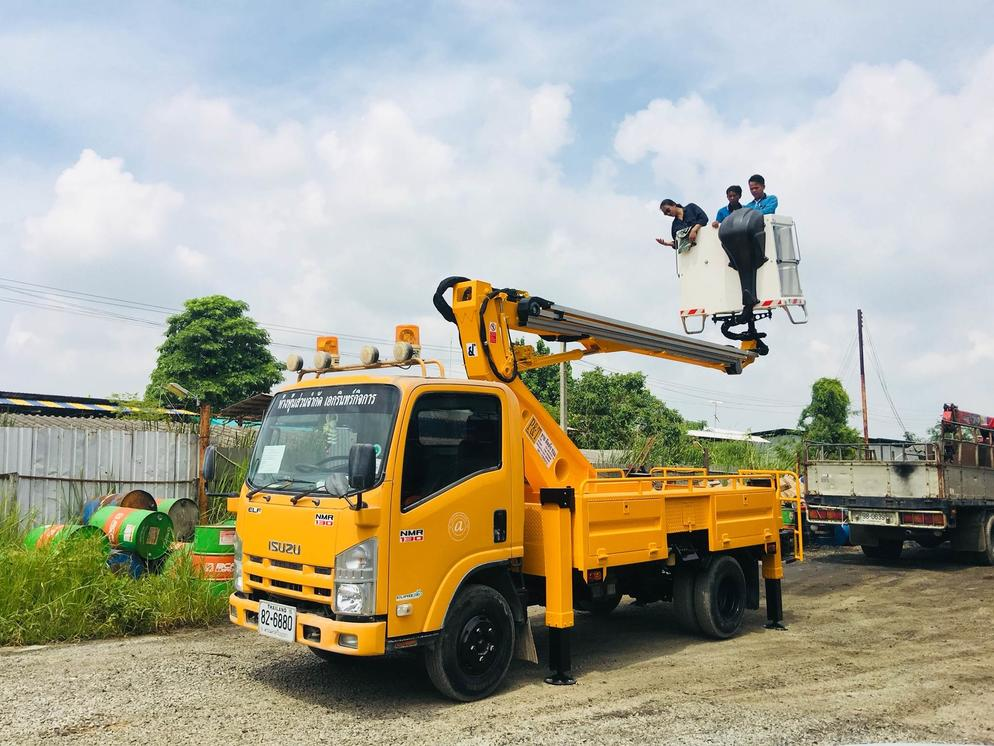truck: (230, 357, 794, 701)
